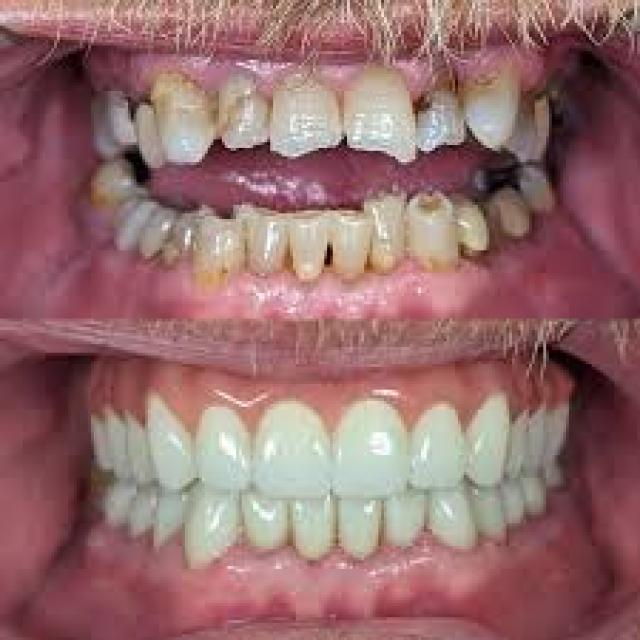tooth: (250, 401, 336, 504), (333, 398, 407, 498), (347, 63, 424, 159), (188, 398, 253, 495), (137, 384, 196, 489), (182, 480, 245, 574), (151, 71, 213, 157), (412, 398, 467, 492), (216, 77, 279, 148), (466, 68, 524, 145), (466, 392, 512, 487), (279, 80, 341, 150), (290, 483, 339, 558), (412, 194, 461, 268), (427, 481, 478, 552), (197, 216, 250, 282), (247, 202, 293, 276), (116, 401, 156, 486), (367, 196, 412, 268), (469, 478, 518, 543), (333, 210, 378, 279), (336, 492, 384, 555), (384, 484, 430, 549), (245, 486, 287, 549), (290, 210, 330, 276), (506, 395, 535, 481), (168, 210, 202, 259)
